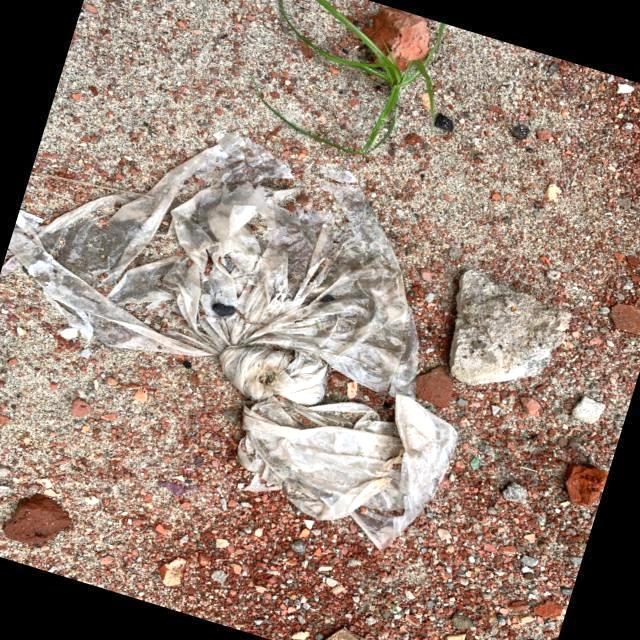polythene: (166, 172, 403, 435)
